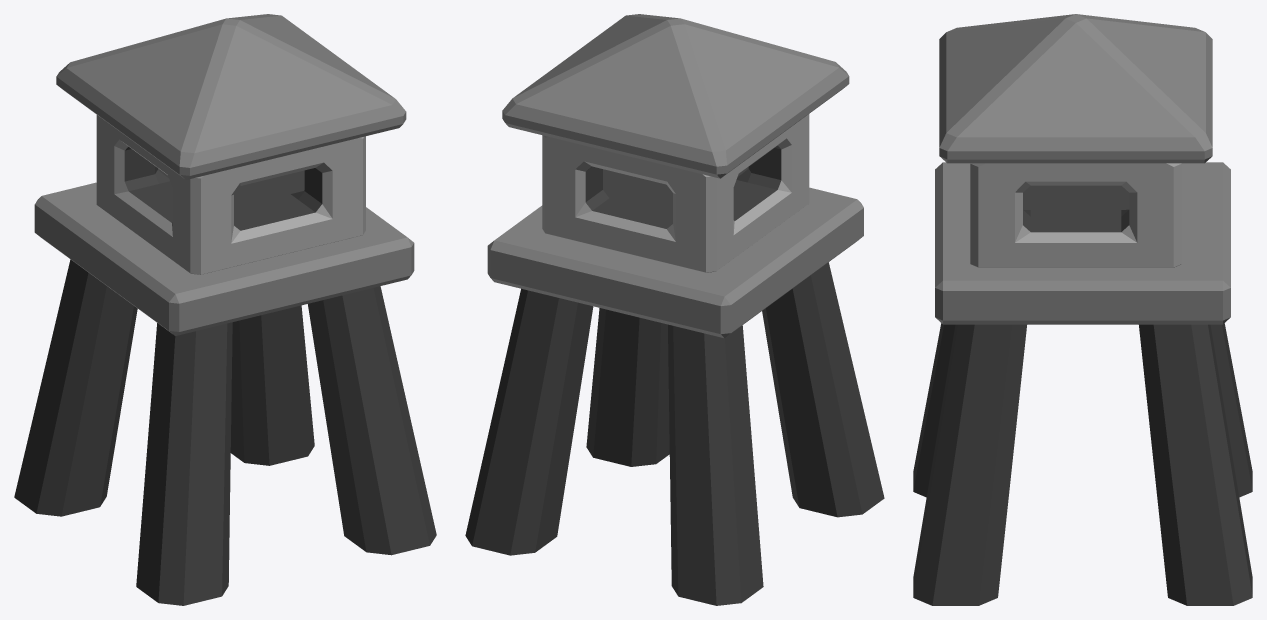
File: snipe.fbx
3 views of the same model, side by side, from view 1: azimuth 30°, elevation 25°; view 2: azimuth 150°, elevation 25°; view 3: azimuth 270°, elevation 25° (orthographic). The views are drawn at different scales.
Parts seen in each view (by area): view 1: Cube, Base; view 2: Cube, Base; view 3: Cube, Base.
Part boxes in pixels (x1,y1,x2,y2): Cube: (34, 14, 414, 335); Base: (14, 259, 436, 605); Cube: (487, 14, 863, 338); Base: (465, 262, 884, 605); Cube: (935, 14, 1230, 324); Base: (913, 323, 1252, 605).
Size of the model in its own units: 59.25 by 101 by 59.96.
